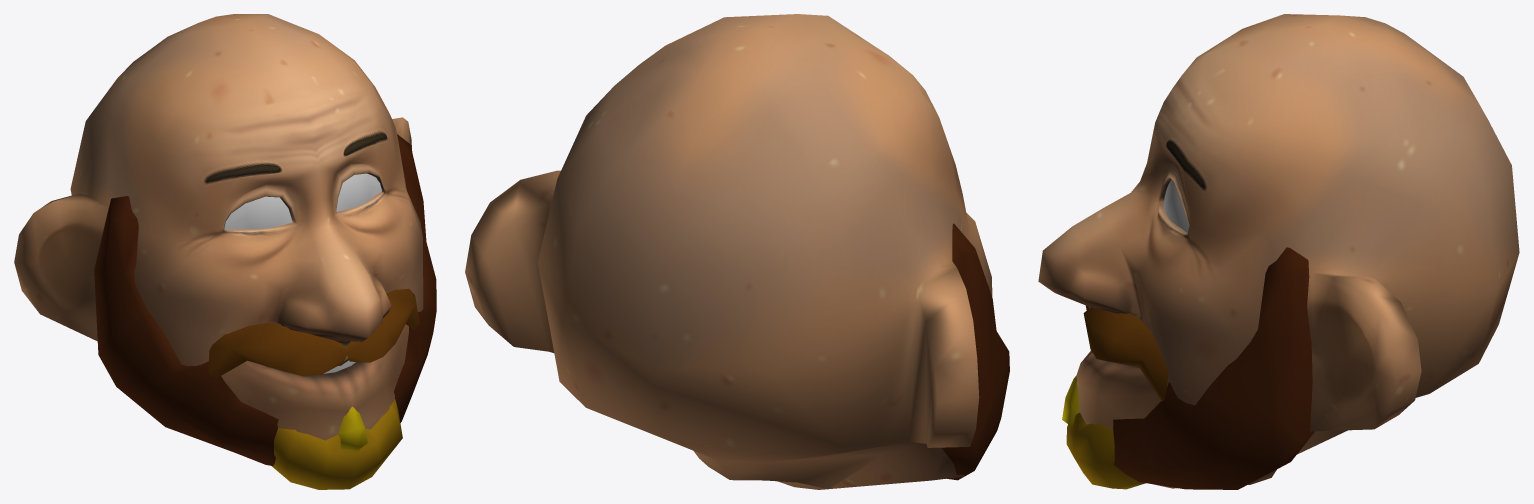
File: E_pose10.fbx
3 views of the same model, side by side, from view 1: azimuth 30°, elevation 25°; view 2: azimuth 150°, elevation 25°; view 3: azimuth 270°, elevation 25° (orthographic). The views are drawn at different scales.
Parts seen in each view (by area): view 1: HEAD, BEARD; view 2: HEAD, BEARD; view 3: HEAD, BEARD.
Boxes of the visible parts, <box> form: HEAD: <box>14,14,423,440</box>; BEARD: <box>94,134,436,489</box>; HEAD: <box>465,14,992,489</box>; BEARD: <box>942,223,1009,480</box>; HEAD: <box>1038,14,1519,488</box>; BEARD: <box>1062,247,1314,489</box>.
Bounding box in the file's own units: 27.45 × 25.95 × 24.9.
